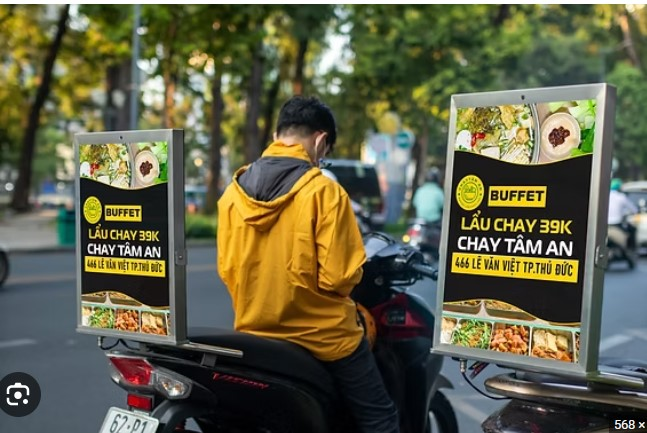bien_so: (91, 406, 168, 433)
